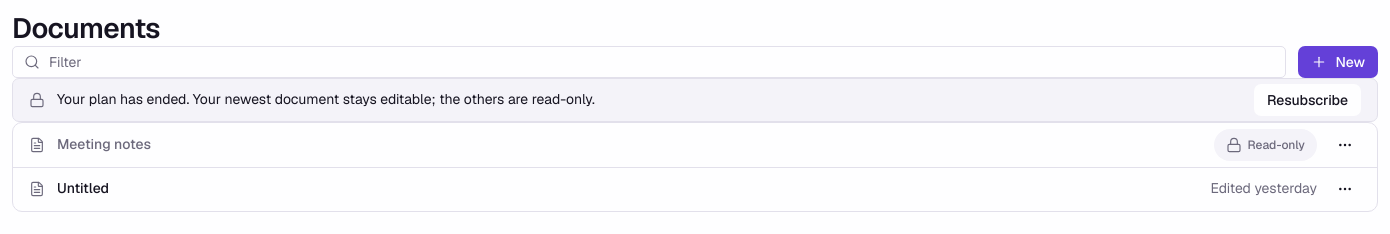
Test case: DocumentList: rename in place › offers Rename only on documents that can be edited
Step 1. Press the mouse on the button named "Document actions" in the row of "Meeting notes" → [1345, 145], box [1329, 129, 1361, 161]
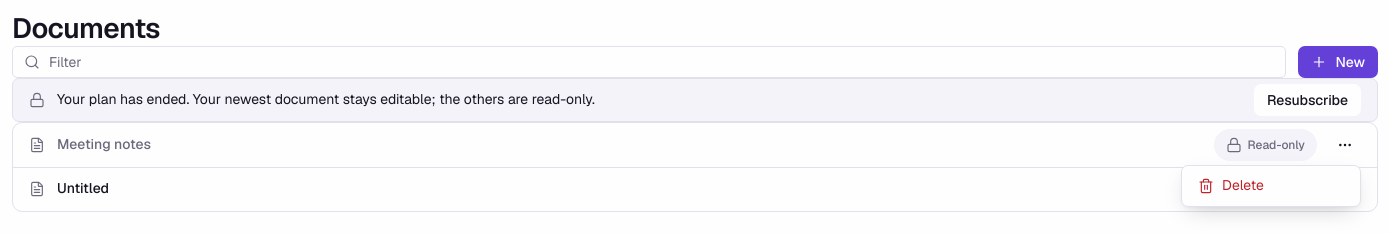
Expected: the menu item "Delete" is shown, [1198, 176, 1264, 194]
